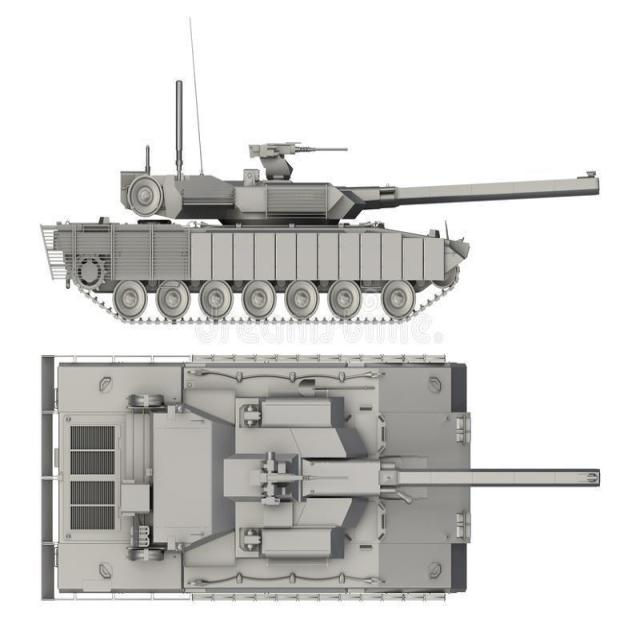Tanks: (34, 354, 614, 615), (34, 128, 615, 335)
